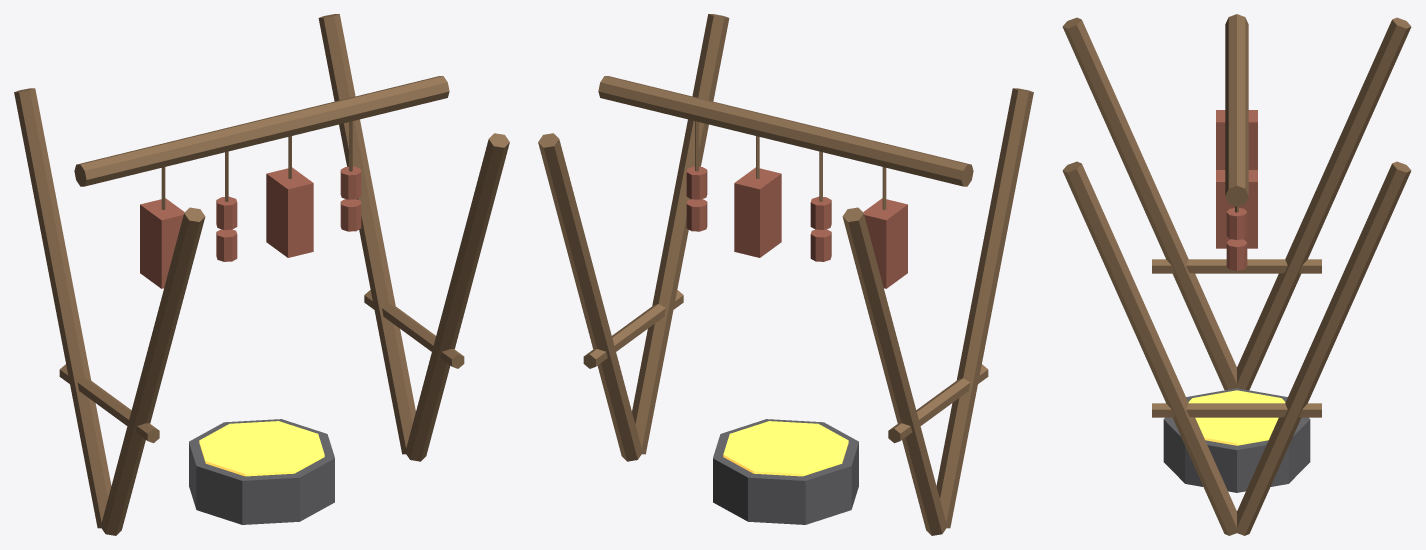
Rendered from smoke_rack.glb.
3 renders of one model, left to right at view 1: azimuth 30°, elevation 25°; view 2: azimuth 150°, elevation 25°; view 3: azimuth 270°, elevation 25°, orthographic. The views are drawn at different scales.
Parts seen in each view (by area): view 1: Cylinder.001, Cylinder.006, Cylinder.015, Cylinder.004, Cylinder, Cylinder.003, Cylinder.016, Cube.001, Cube, Cylinder.002, Cylinder.005, Cylinder.014 (+3 smaller); view 2: Cylinder, Cylinder.006, Cylinder.015, Cylinder.003, Cylinder.004, Cylinder.001, Cylinder.016, Cube.001, Cube, Cylinder.002, Cylinder.005, Cylinder.014 (+3 smaller); view 3: Cylinder.003, Cylinder.004, Cylinder, Cylinder.001, Cylinder.015, Cylinder.006, Cylinder.016, Cylinder.005, Cylinder.002, Cube.001, Cube, Cylinder.014 (+1 smaller).
Part boxes in pixels (box(x1,y1,x2,y2)): Cylinder.001: box(14, 88, 111, 528); Cylinder.006: box(74, 76, 449, 186); Cylinder.015: box(189, 419, 334, 524); Cylinder.004: box(318, 14, 415, 454); Cylinder: box(100, 207, 205, 535); Cylinder.003: box(405, 133, 509, 461); Cylinder.016: box(199, 421, 324, 476); Cube.001: box(266, 167, 313, 257); Cube: box(140, 198, 184, 288); Cylinder.002: box(59, 364, 159, 443); Cylinder.005: box(364, 290, 464, 368); Cylinder.014: box(340, 199, 361, 231); Cylinder: box(936, 88, 1033, 528); Cylinder.006: box(598, 76, 973, 186); Cylinder.015: box(713, 419, 858, 524); Cylinder.003: box(632, 14, 729, 454); Cylinder.004: box(538, 133, 642, 461); Cylinder.001: box(842, 207, 946, 535); Cylinder.016: box(723, 421, 848, 476); Cube.001: box(734, 167, 781, 257); Cube: box(863, 198, 907, 288); Cylinder.002: box(888, 364, 988, 443); Cylinder.005: box(583, 290, 683, 368); Cylinder.014: box(686, 199, 707, 231); Cylinder.003: box(1062, 161, 1238, 535); Cylinder.004: box(1236, 161, 1411, 535); Cylinder: box(1062, 17, 1238, 390); Cylinder.001: box(1235, 17, 1411, 390); Cylinder.015: box(1163, 388, 1310, 492); Cylinder.006: box(1225, 14, 1248, 206); Cylinder.016: box(1188, 390, 1285, 445); Cylinder.005: box(1152, 403, 1321, 417); Cylinder.002: box(1152, 259, 1321, 273); Cube.001: box(1216, 170, 1257, 248); Cube: box(1216, 110, 1257, 169); Cylinder.014: box(1226, 239, 1247, 270).
Size of the model in its own units: 1.55 by 1.56 by 1.33.
